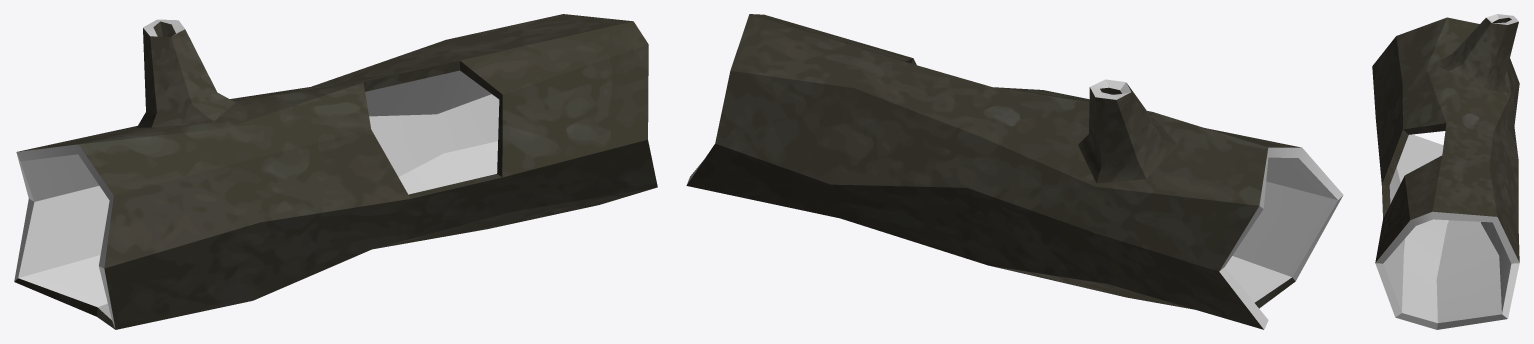
Rendered from TreeStub_4.fbx.
3 renders of one model, left to right at view 1: azimuth 30°, elevation 25°; view 2: azimuth 150°, elevation 25°; view 3: azimuth 270°, elevation 25°, orthographic. The views are drawn at different scales.
Parts seen in each view (by area): view 1: TreeStub_4; view 2: TreeStub_4; view 3: TreeStub_4.
Part boxes in pixels (<box>): TreeStub_4: <box>14,14,657,329</box>; TreeStub_4: <box>686,14,1343,329</box>; TreeStub_4: <box>1372,14,1519,329</box>.
Bounding box in the file's own units: 477 × 186 × 143.
